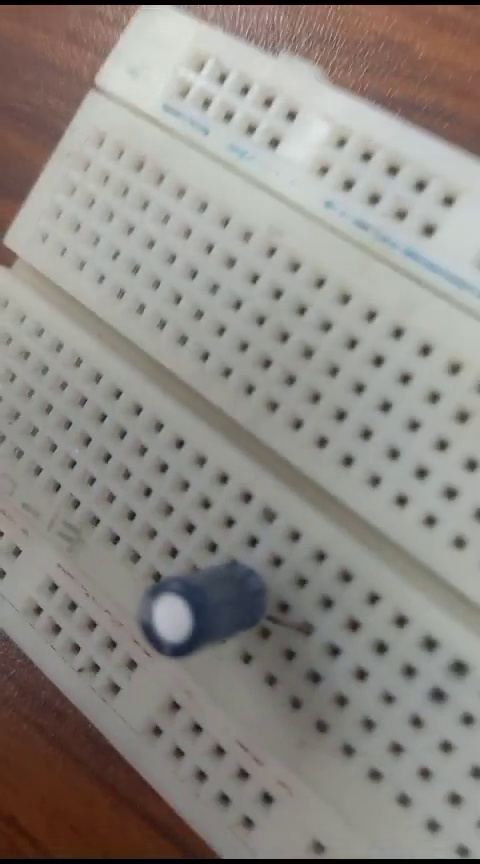capacitor: (113, 560, 308, 661)
